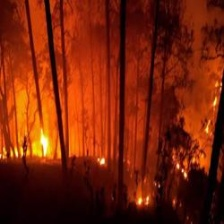fire: (37, 129, 54, 157), (133, 192, 151, 207), (95, 153, 108, 169)
